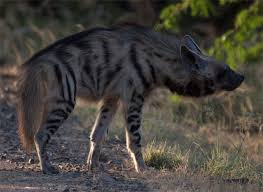hyena: (20, 26, 244, 175)
